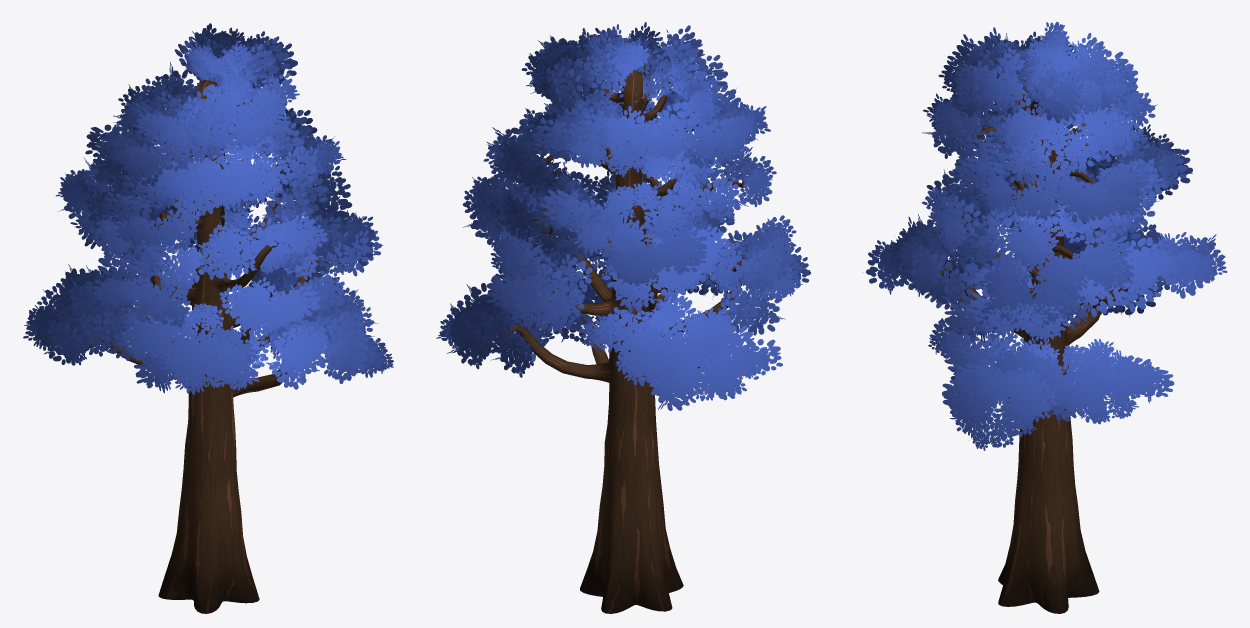
The model's file is TallThick_1.gltf.
The picture shows the model from 3 angles, left to right: view 1: azimuth 30°, elevation 25°; view 2: azimuth 150°, elevation 25°; view 3: azimuth 270°, elevation 25°; orthographic projection. The views are drawn at different scales.
Parts seen in each view (by area): view 1: TallThick_1; view 2: TallThick_1; view 3: TallThick_1.
Part boxes in pixels (box(x1,y1,x2,y2)): TallThick_1: box(23, 23, 393, 613); TallThick_1: box(436, 22, 810, 613); TallThick_1: box(863, 22, 1227, 613).
Bounding box in the file's own units: 9.37 × 14.98 × 9.12.
Materials: 2 (2 with a texture image).
